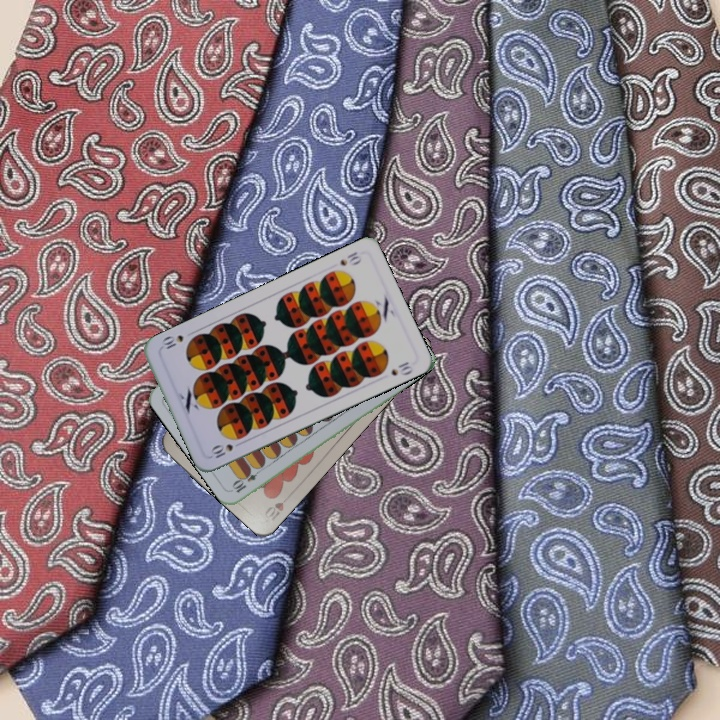E10: (229, 464, 265, 495)
H10: (261, 490, 293, 524)
S10: (207, 440, 236, 461), (336, 248, 364, 268)
